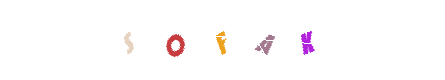A: (211, 0, 291, 80)
F: (182, 0, 262, 80)
K: (267, 0, 347, 80)
O: (181, 0, 261, 80)
S: (135, 0, 215, 80)
